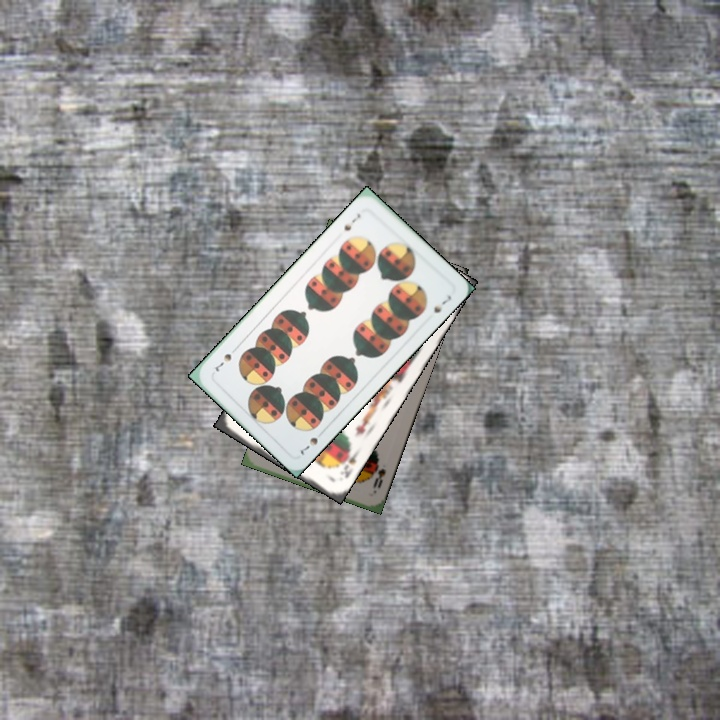S7: (296, 433, 321, 458), (340, 209, 363, 234)
SK: (336, 444, 361, 481)
SO: (369, 464, 388, 491)
